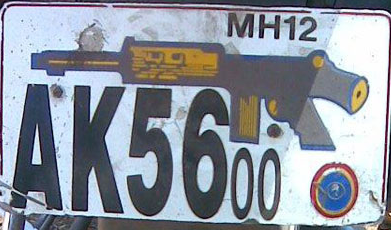0: (255, 146, 282, 219), (231, 146, 255, 221)
1: (284, 15, 299, 42)
2: (299, 15, 319, 44)
5: (126, 85, 173, 217)
6: (182, 86, 230, 219)
A: (9, 78, 67, 210)
H: (257, 12, 282, 40)
K: (70, 83, 126, 215)
M: (223, 11, 258, 40)
